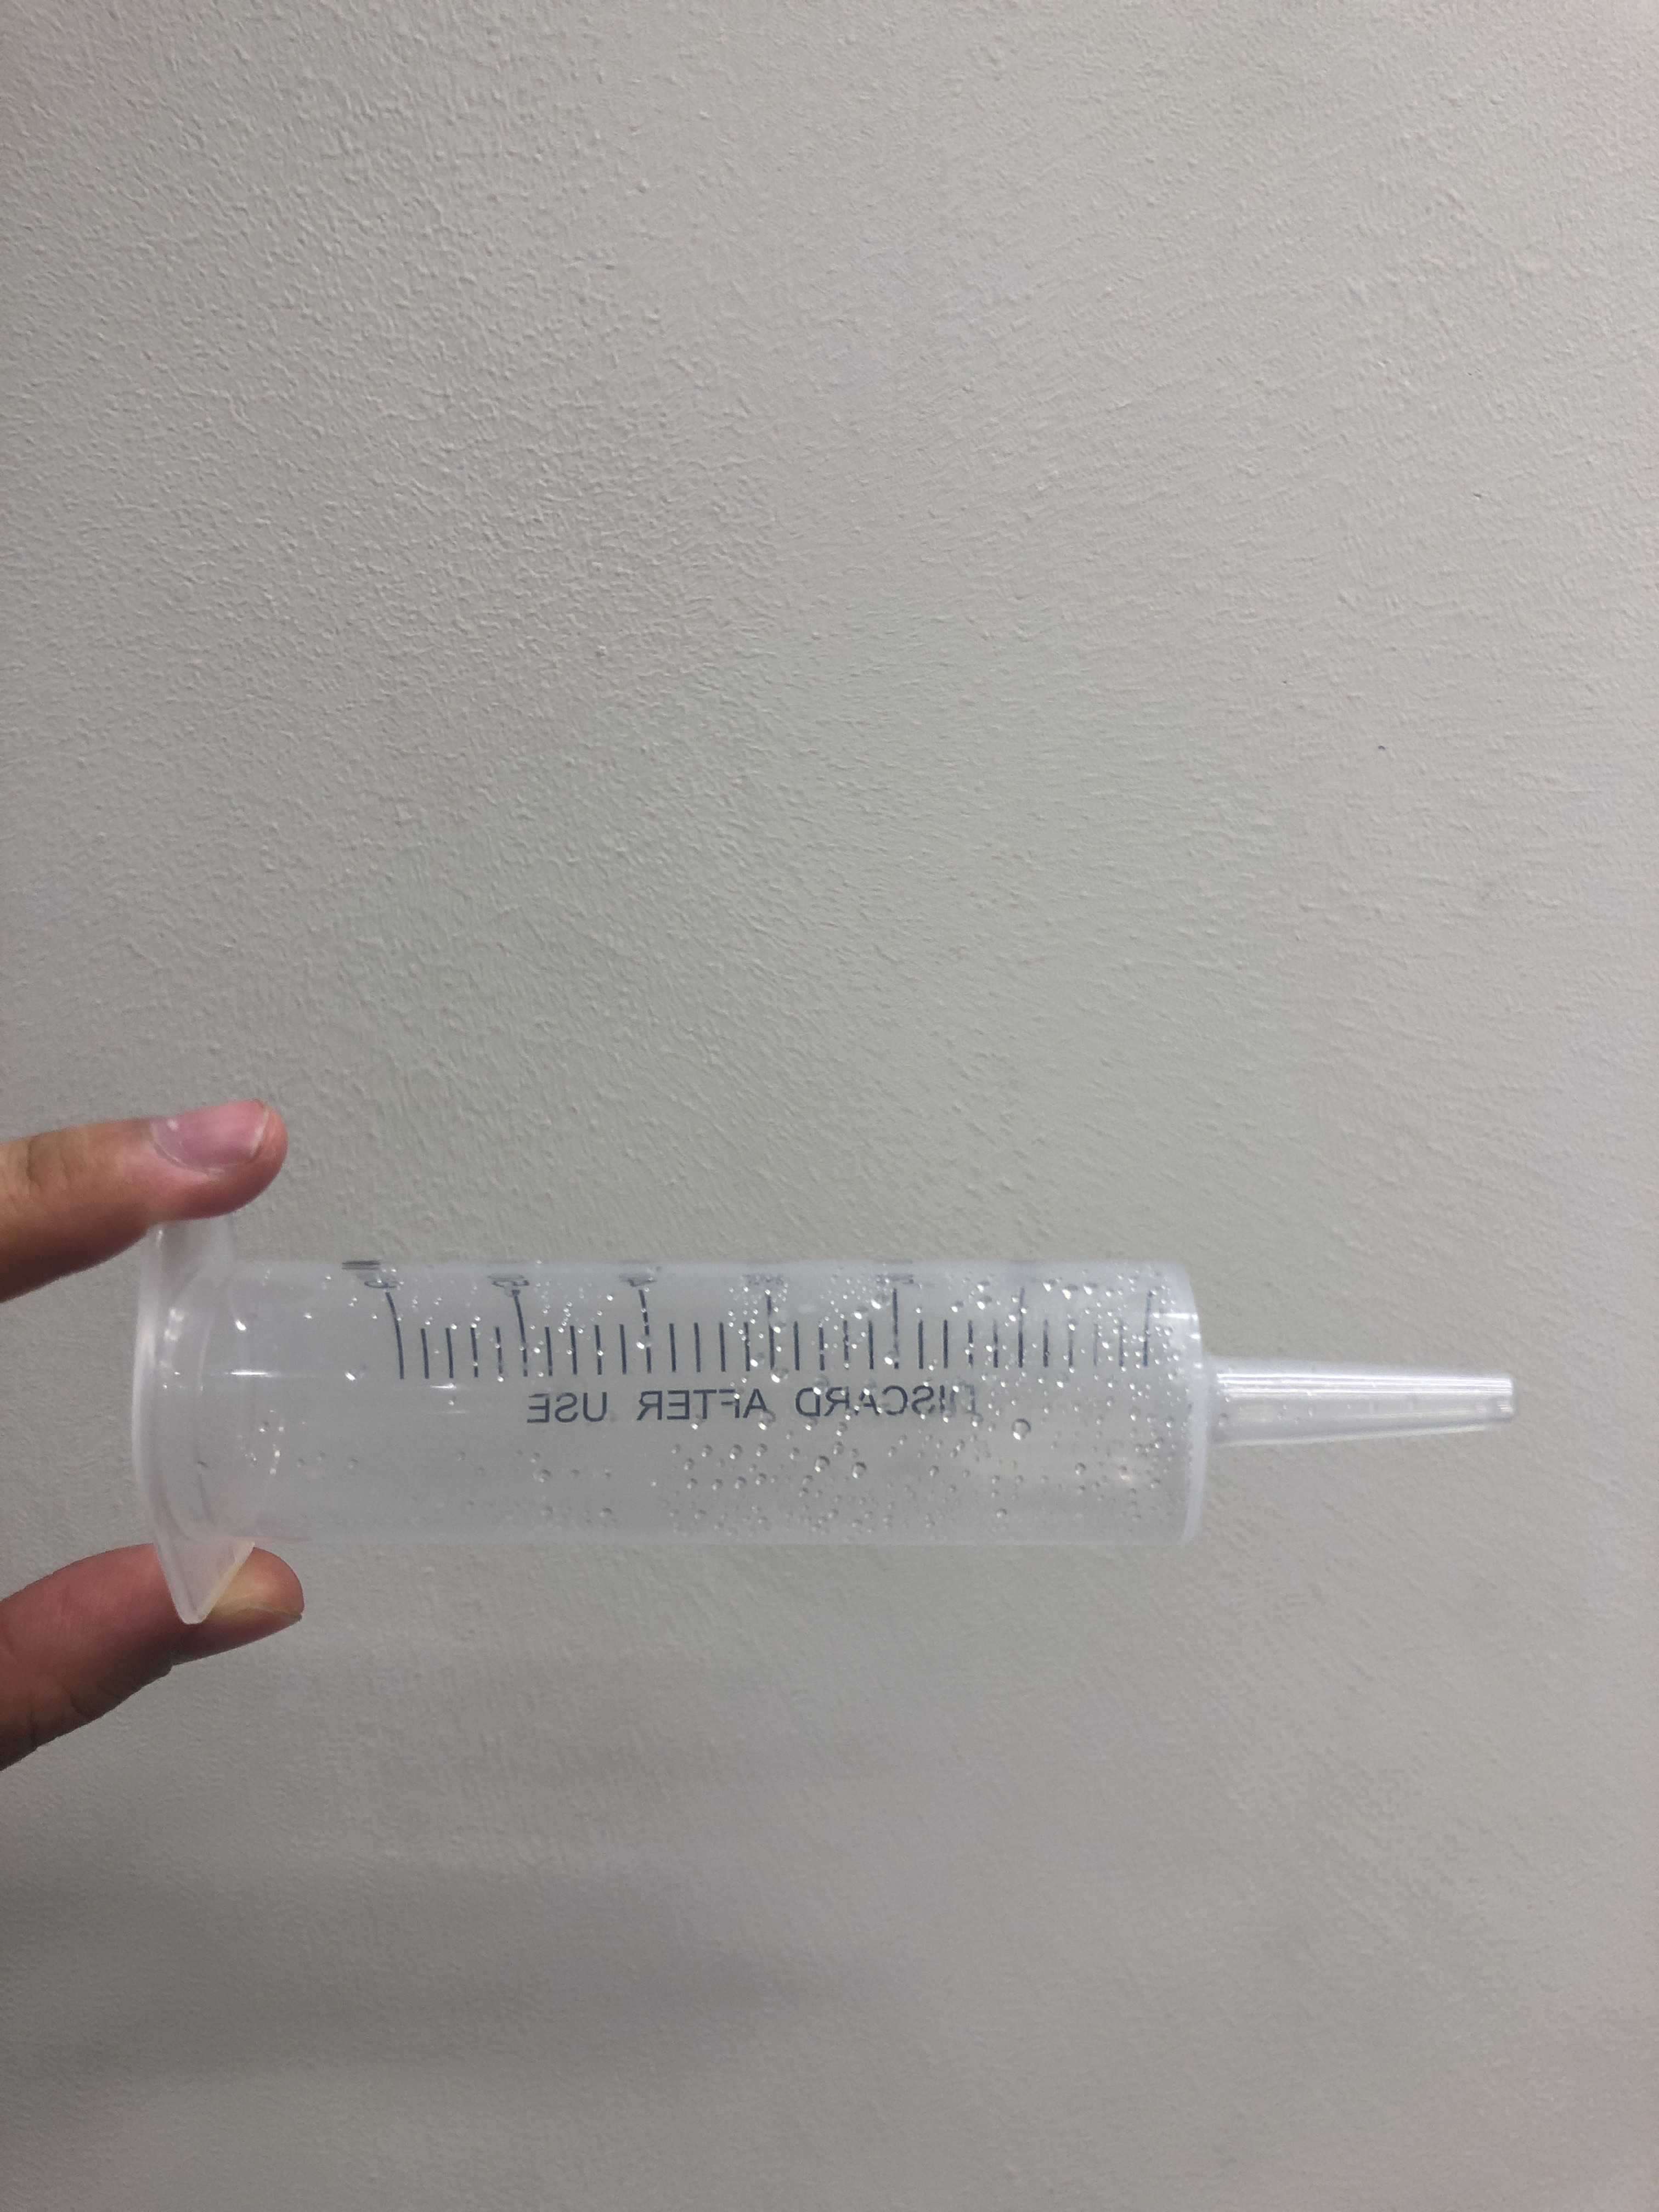syringe: (125, 1209, 1537, 1630)
